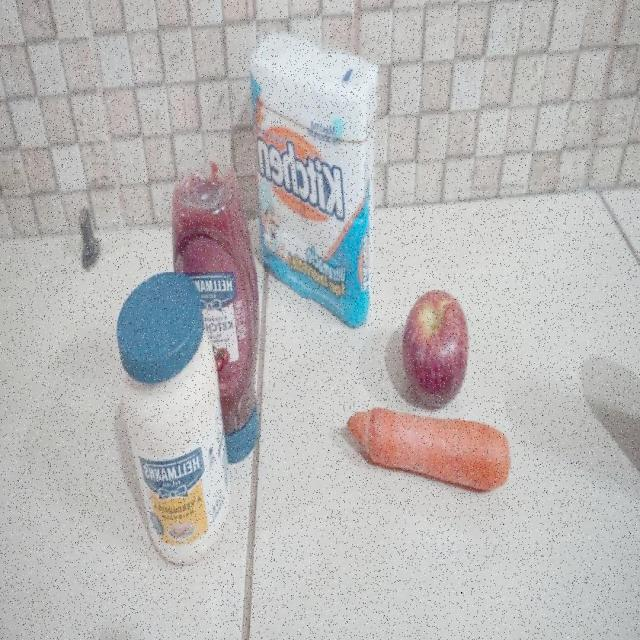Apple: (398, 287, 469, 413)
Carrot: (345, 403, 511, 495)
Ketchup: (170, 162, 258, 460)
Mayonnaise: (116, 273, 232, 565)
Napkin: (248, 34, 378, 332)
